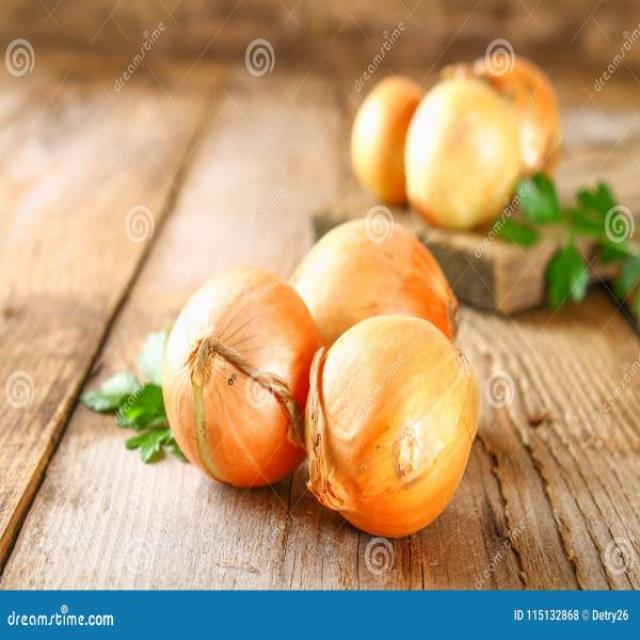Onion: (302, 313, 481, 541), (158, 268, 326, 491), (289, 209, 459, 346)
